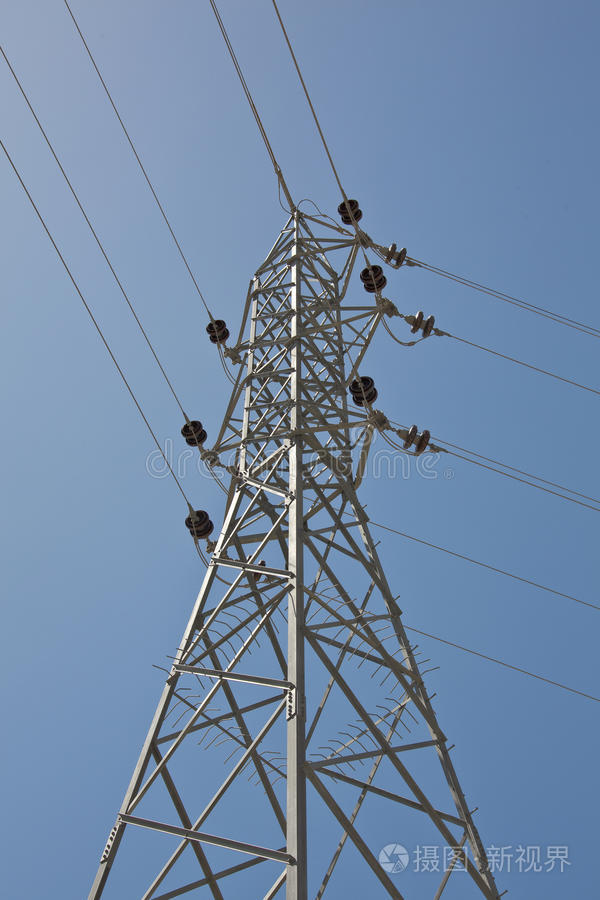insulator: (184, 510, 215, 540), (349, 377, 378, 407), (400, 426, 431, 454), (361, 265, 388, 295), (337, 199, 365, 227), (181, 419, 207, 448), (408, 308, 434, 335), (380, 240, 404, 269), (204, 320, 229, 346)
